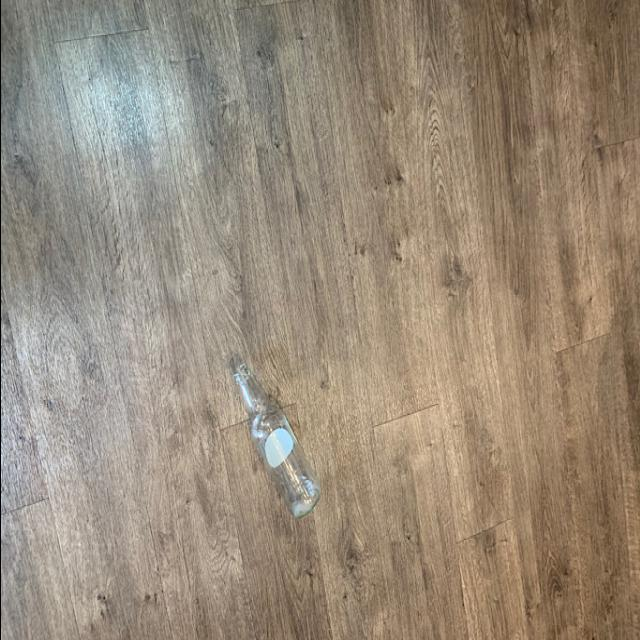Glass Bottle: (225, 350, 323, 519)
